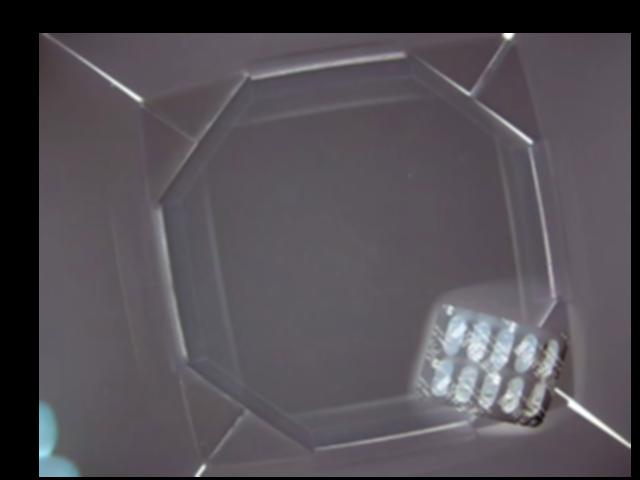Medicine: (411, 302, 566, 429)
